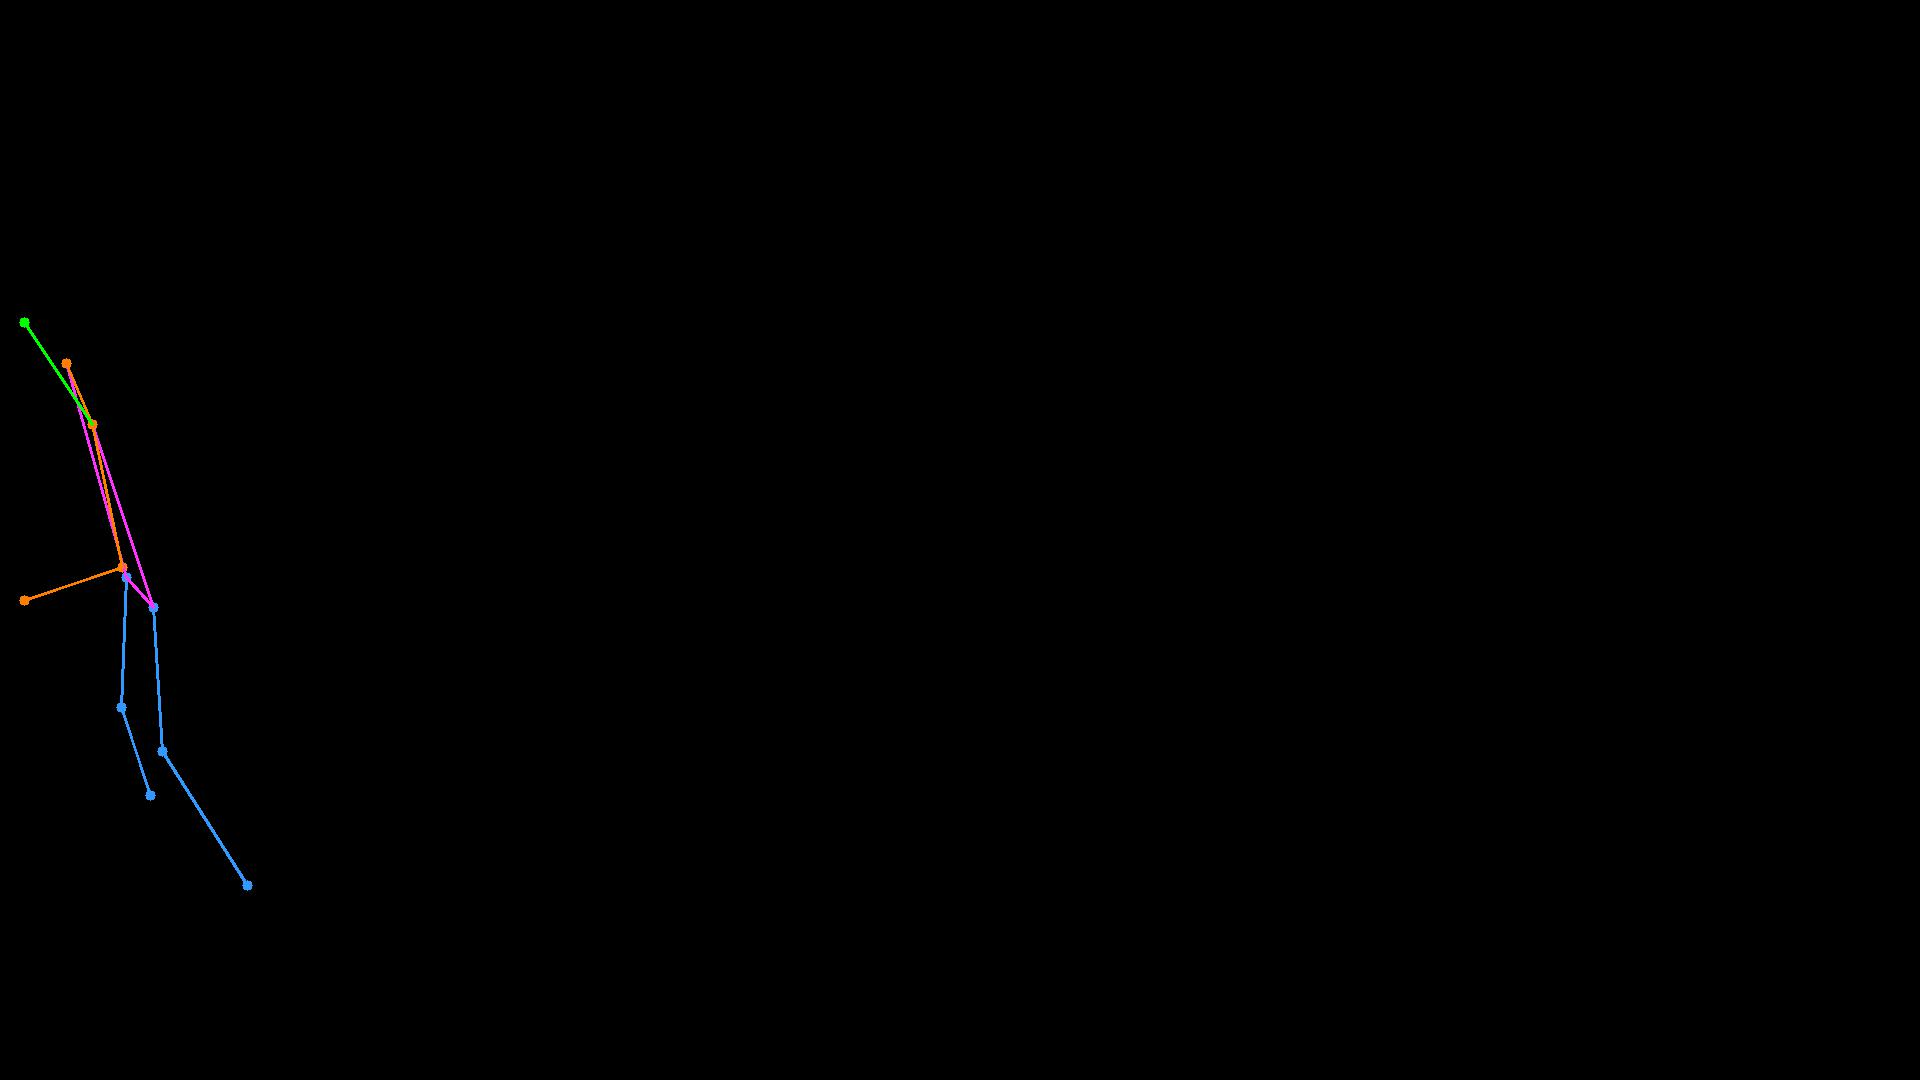normal: (3, 295, 256, 905)
